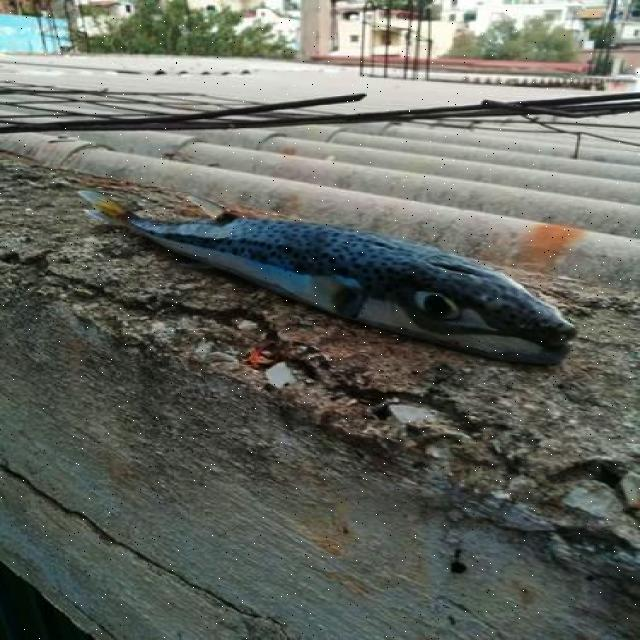Balik: (81, 191, 575, 364)
